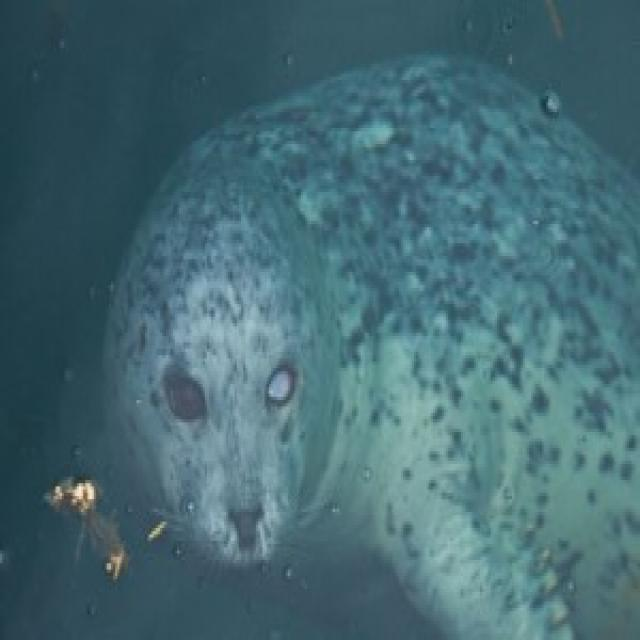Seal: (88, 26, 640, 609)
